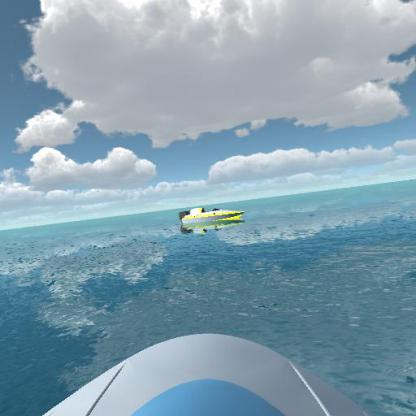usv2: (176, 204, 248, 233)
